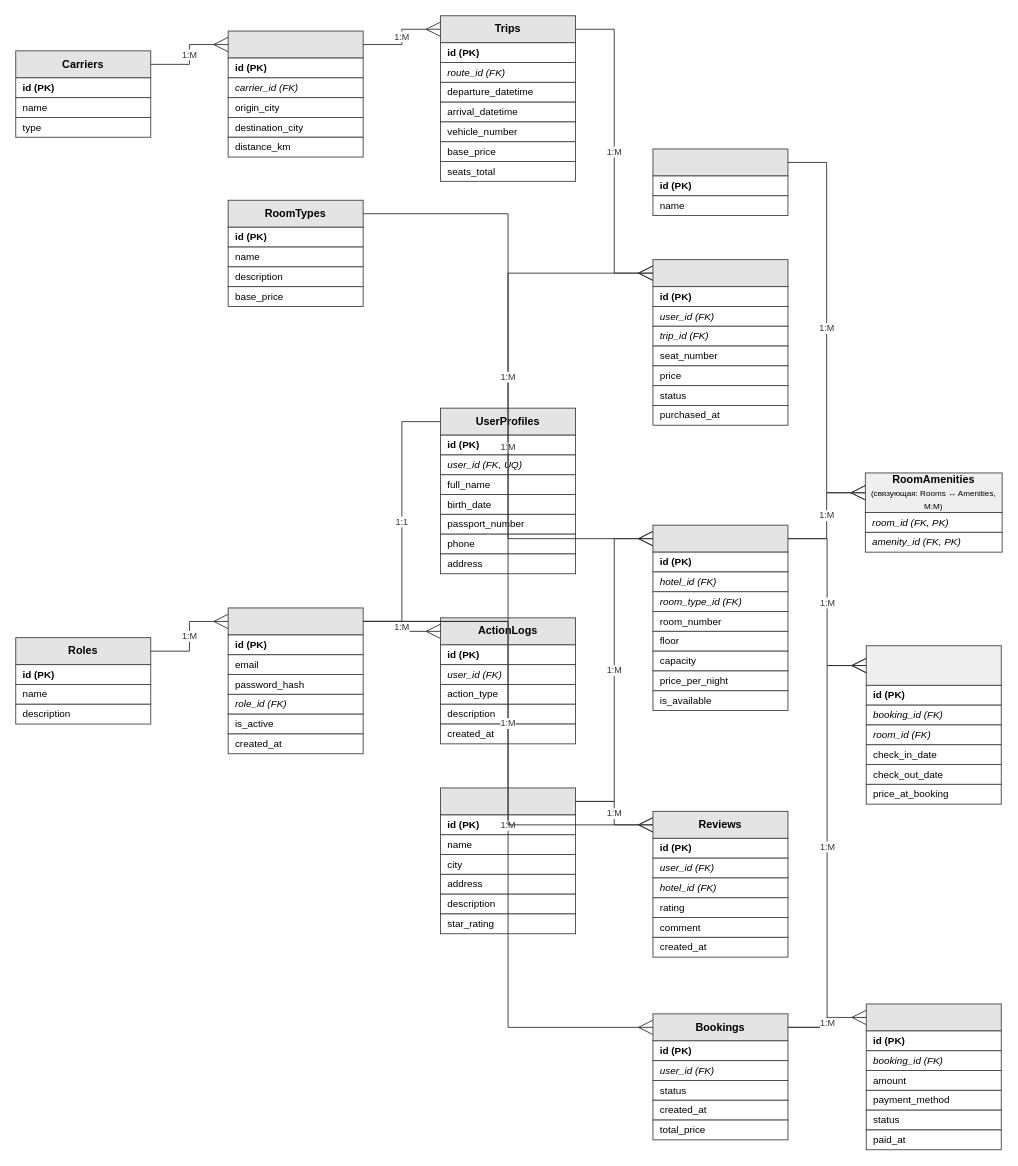
The diagram is 1018 pixels wide and 1166 high, and some of its shapes have lost their labels. The centre of each missing label's shape, as x and y in pixels:
"Amenities" goes at point 720,162.
"BookingRooms (Bookings ↔ Rooms, М:М)" goes at point 933,665.
"Hotels" goes at point 508,801.
"Payments" goes at point 933,1017.
"Rooms" goes at point 720,538.
"Routes" goes at point 295,44.
"Tickets" goes at point 720,273.
"Users" goes at point 295,621.
